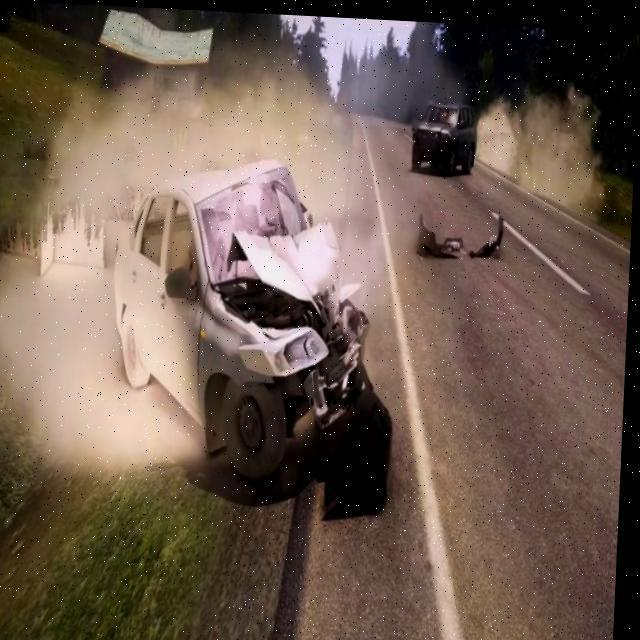multiple_accident: (47, 48, 527, 523)
